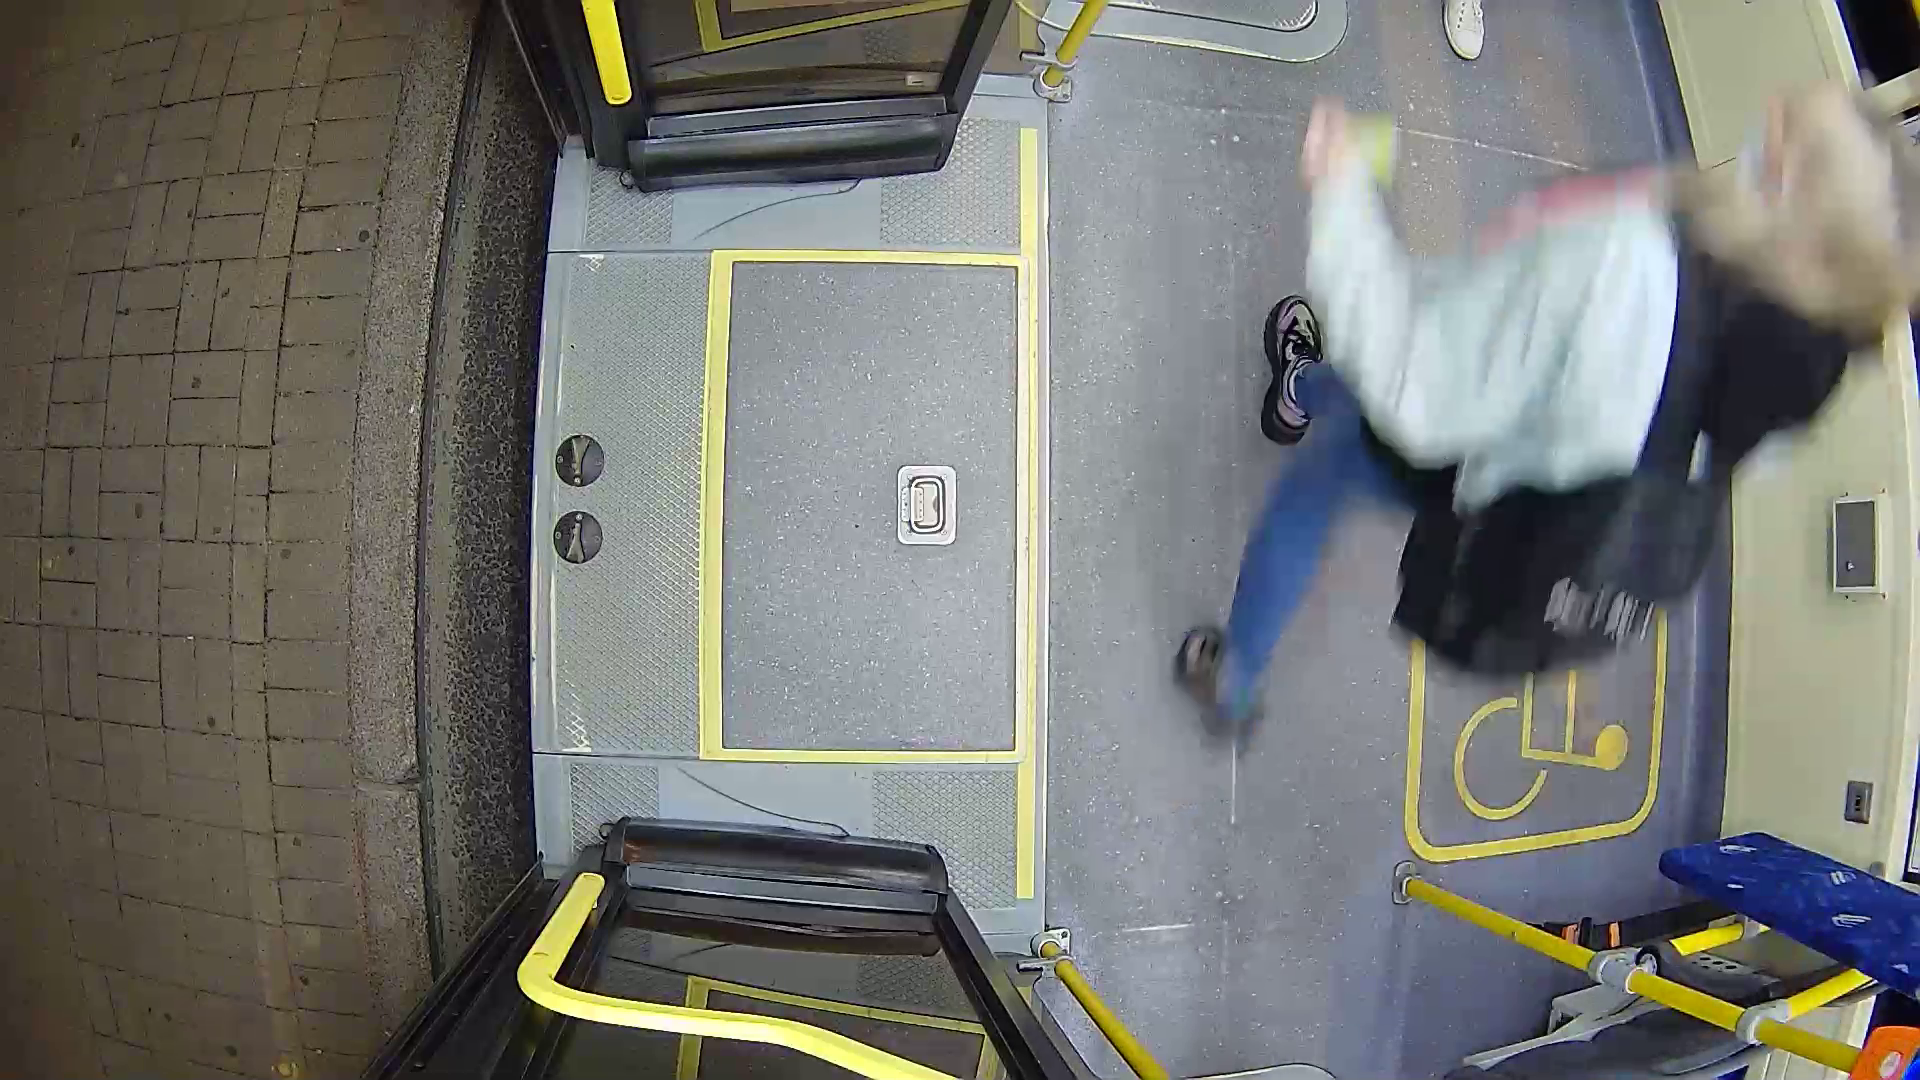person: (1210, 82, 1883, 667)
